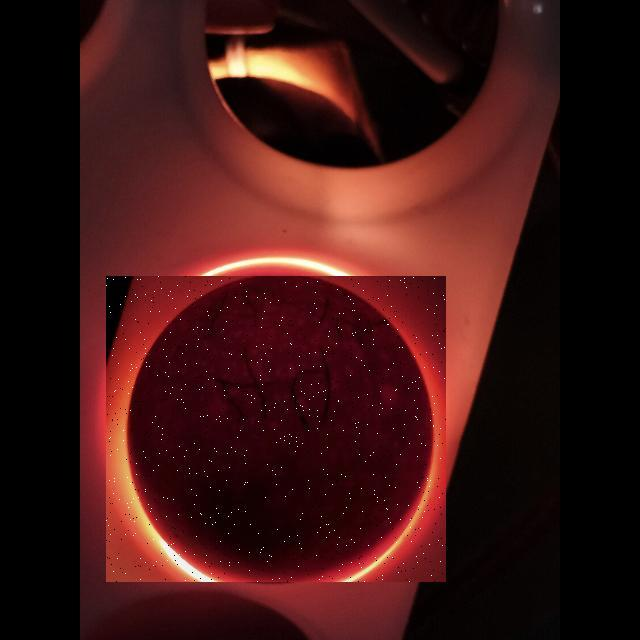Fertile: (106, 276, 446, 582)
